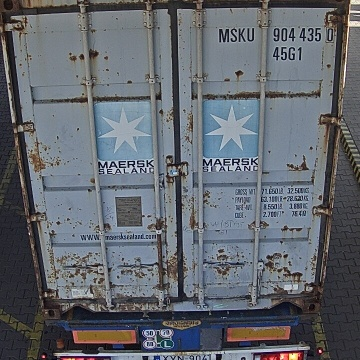serial_id: (219, 27, 335, 42)
